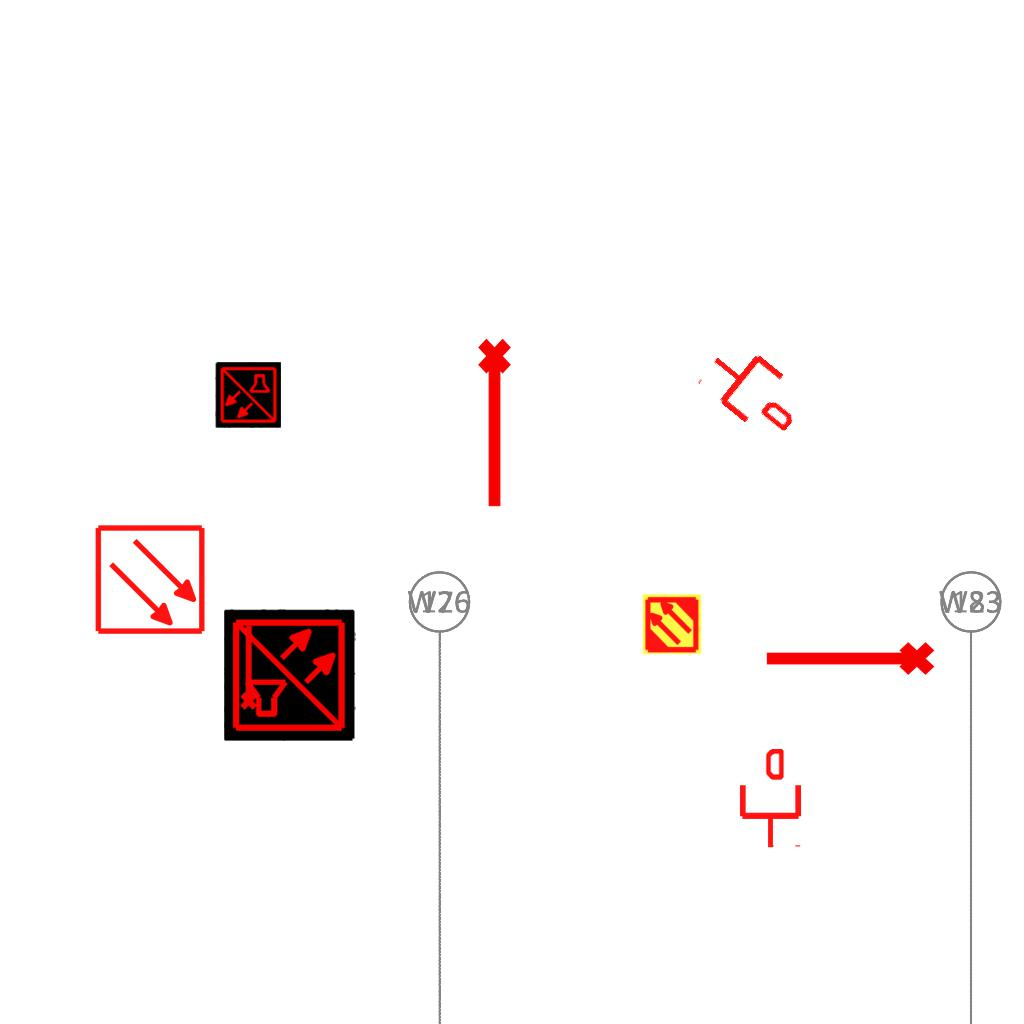ASR_Ansaugoeffnung: (761, 638, 937, 684), (474, 336, 520, 512), (236, 623, 259, 711)
ASR_Ansaugrauchmelder: (641, 593, 703, 655)
Datenanschluss_einfach: (692, 331, 815, 449), (736, 749, 805, 849)
OKW_Multisensormelder_(Kombination_optischer_Rauch-Kahlenmonoxid_Waerme-Melder): (224, 609, 356, 741), (215, 362, 281, 428)
RMO_Rauchmelder_optischer: (94, 523, 207, 636)
